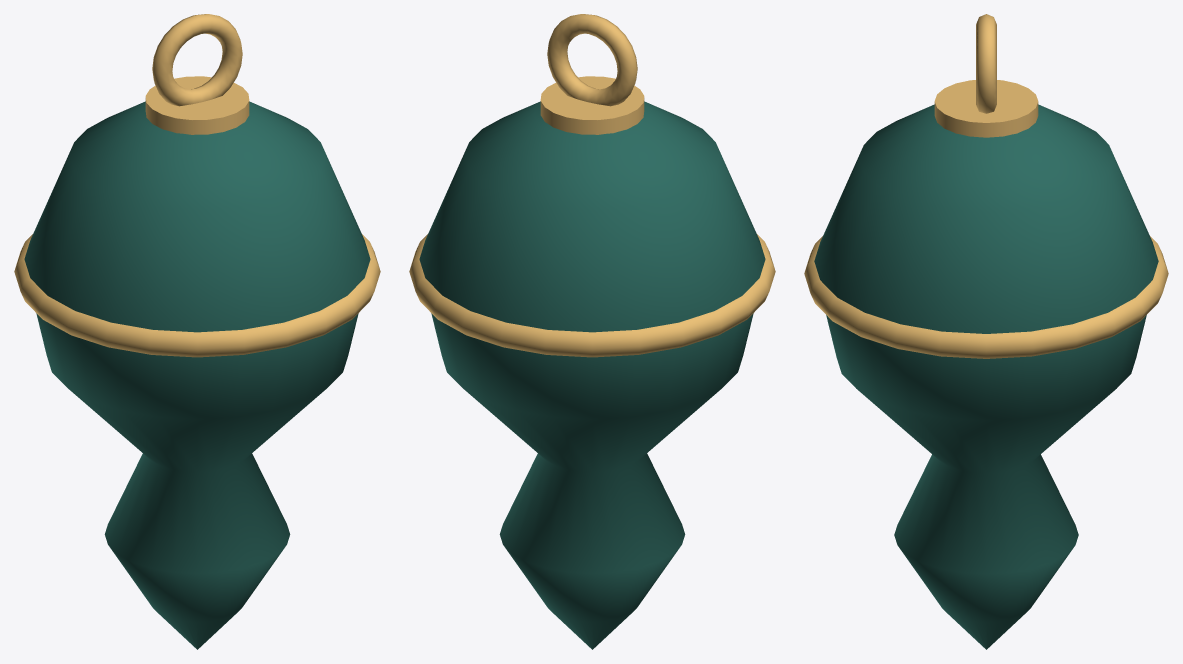
Rendered from christmas-storybook-turned-finial-ornament-02951079__18739.glb.
3 renders of one model, left to right at view 1: azimuth 30°, elevation 25°; view 2: azimuth 150°, elevation 25°; view 3: azimuth 270°, elevation 25°, orthographic.
Parts seen in each view (by area): view 1: pine, brass; view 2: pine, brass; view 3: pine, brass.
Boxes of the visible parts, <box> form: pine: <box>24,101,370,649</box>; brass: <box>14,14,380,357</box>; pine: <box>419,101,765,649</box>; brass: <box>409,14,775,357</box>; pine: <box>814,104,1158,649</box>; brass: <box>804,14,1168,358</box>.
Bounding box in the file's own units: 0.316 × 0.604 × 0.316.
